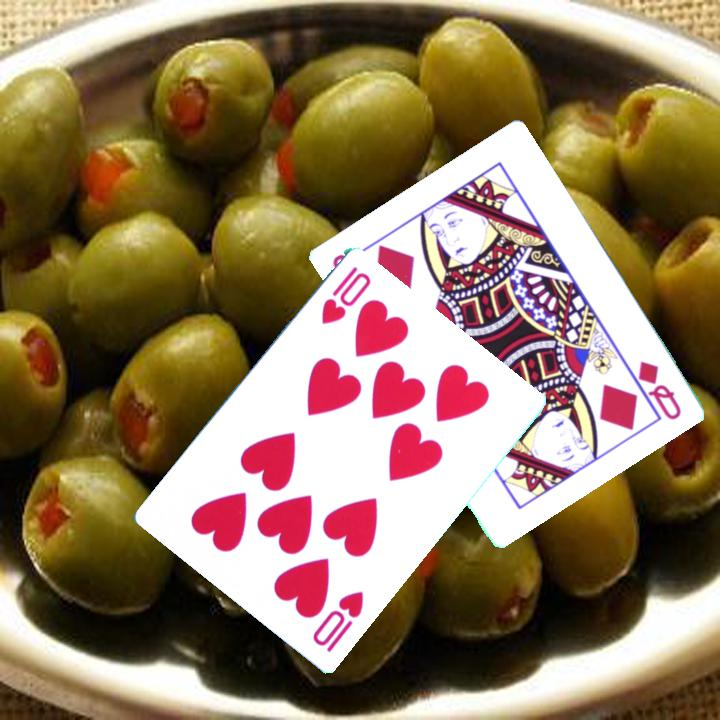10h: (308, 588, 367, 656), (317, 263, 375, 329)
Qd: (634, 357, 684, 423)
